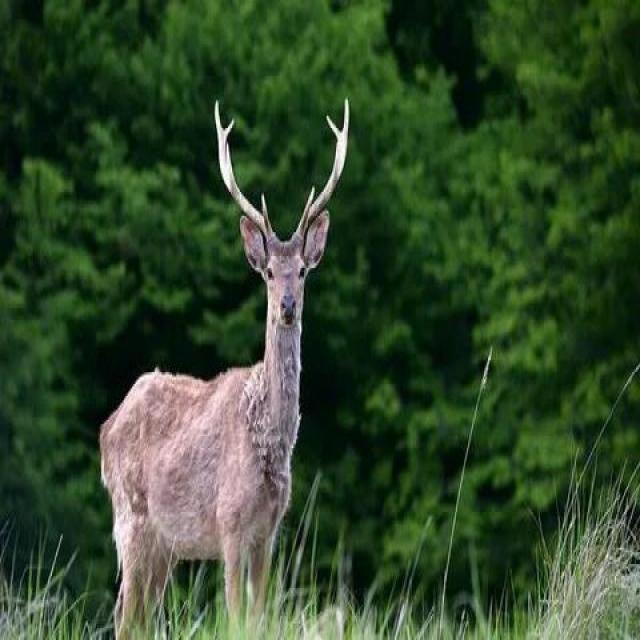deer: (48, 90, 394, 618)
